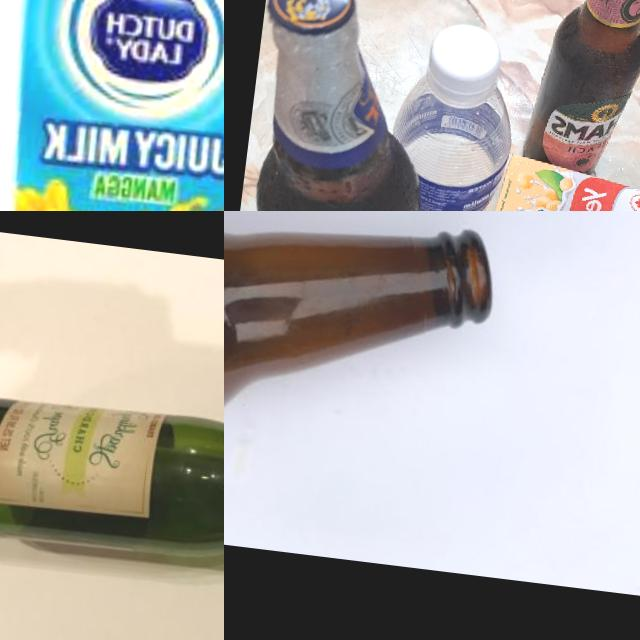caixinha: (0, 0, 224, 211), (485, 152, 640, 211)
garrafa de vidro: (224, 211, 500, 506), (224, 0, 457, 211), (0, 384, 224, 602), (520, 0, 640, 178)
garrafa plástica: (376, 66, 519, 211)
tampa plástica: (423, 20, 502, 106)
